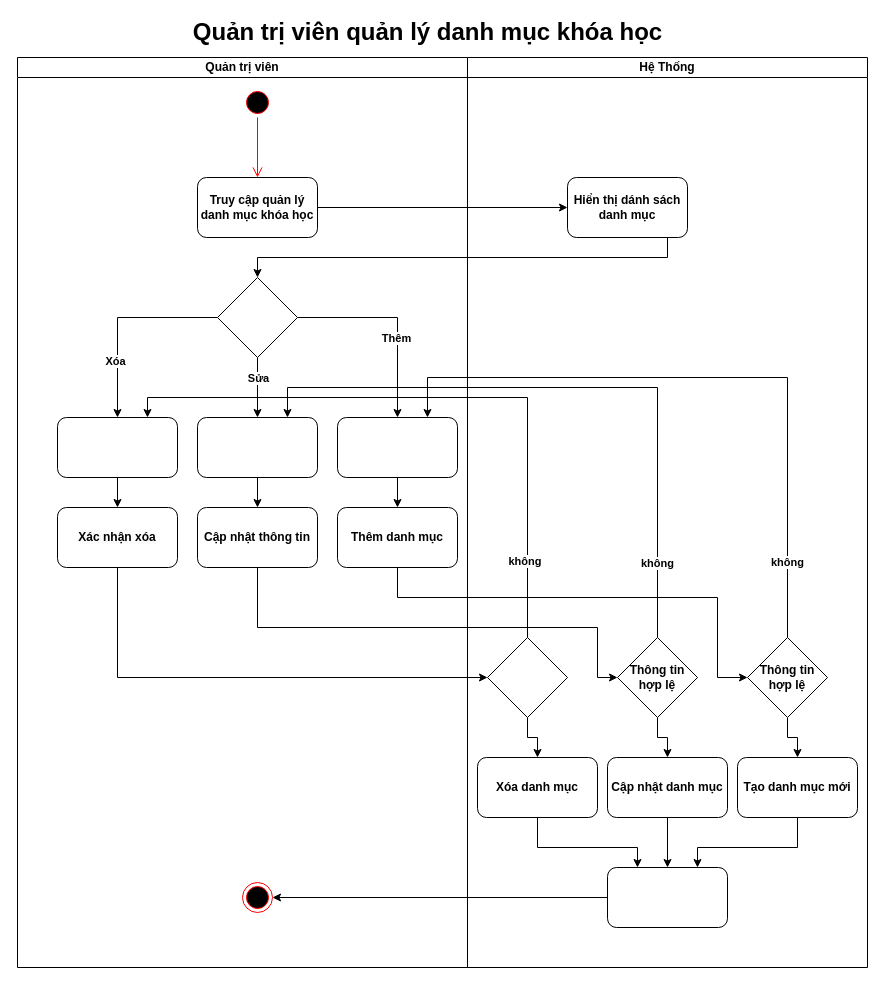
This 885x985 diagram has some shape labels left out. Each missing label, with the centre of its shape:
Cho phép xóa: (527,677)
Chọn danh mục sửa: (257,447)
Chọn danh mục xóa: (117,447)
Chọn thao tác: (257,317)
Hoàn tất thao tác: (667,897)
Nhập thông tin danh mục: (397,447)
